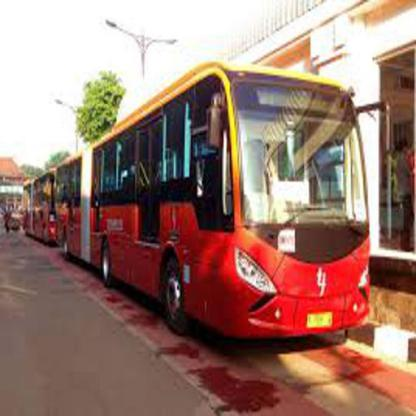bus: (80, 80, 363, 335)
